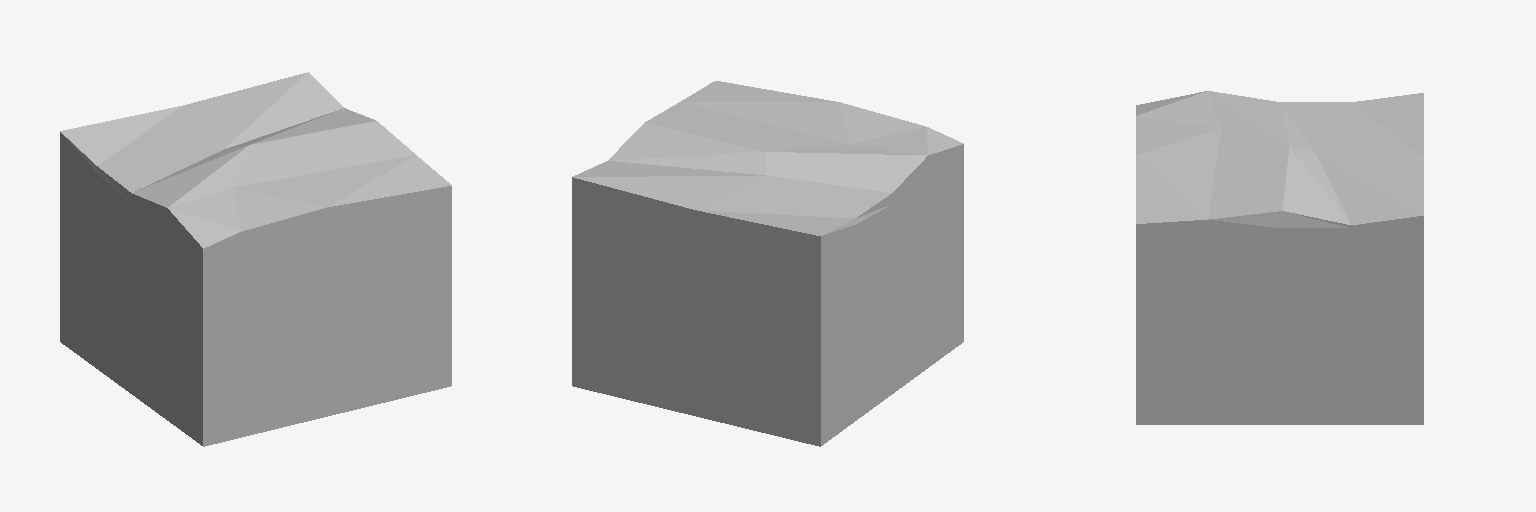
Rendered from grass6.obj.
The picture shows the model from 3 angles: view 1: azimuth 30°, elevation 25°; view 2: azimuth 150°, elevation 25°; view 3: azimuth 270°, elevation 25°; orthographic projection.
Parts seen in each view (by area): view 1: Cube; view 2: Cube; view 3: Cube.
Boxes of the visible parts, x1=… form: Cube: x1=60, y1=72, x2=451, y2=446; Cube: x1=572, y1=81, x2=963, y2=446; Cube: x1=1136, y1=91, x2=1423, y2=424.
Bounding box in the file's own units: 159 × 132 × 159.